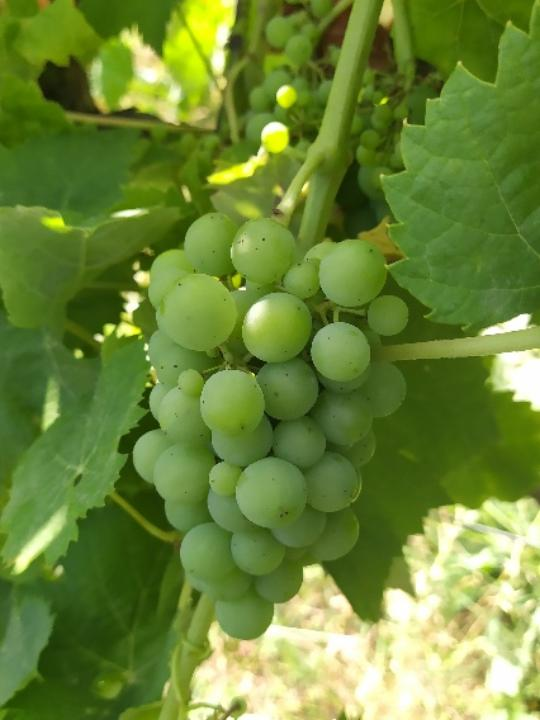grape: (129, 209, 411, 644)
